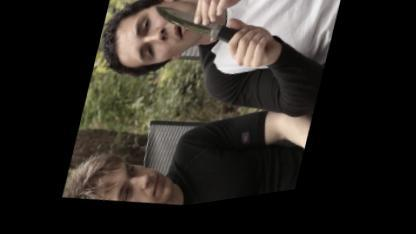knife: (138, 0, 264, 78)
